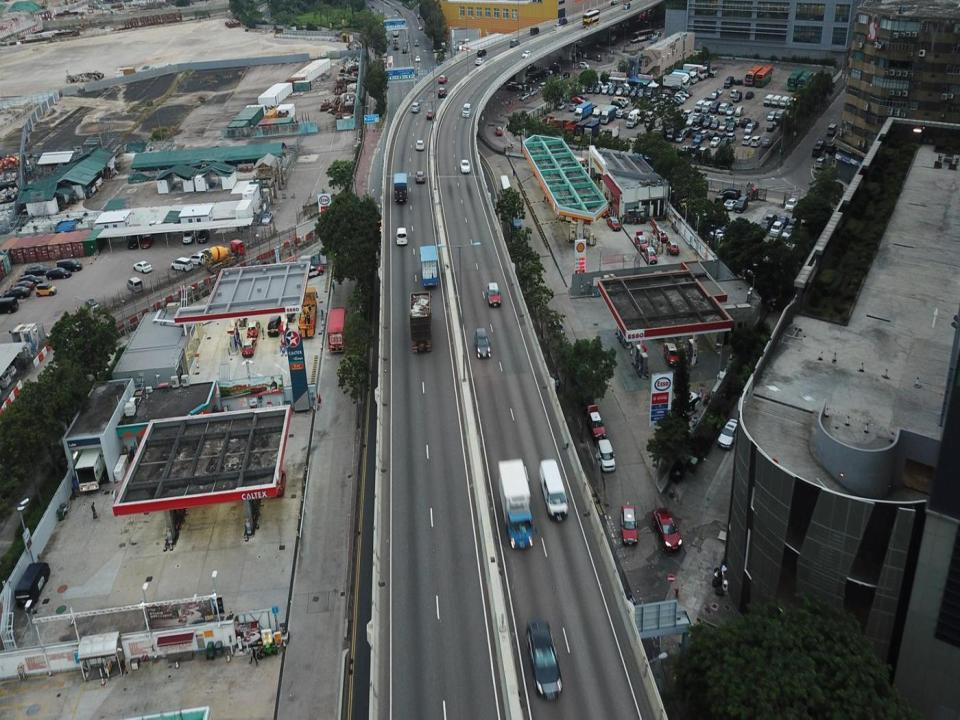bus: (787, 66, 805, 91), (796, 70, 812, 95), (579, 11, 601, 29), (756, 66, 774, 86), (745, 63, 760, 86)
car: (522, 618, 566, 699), (652, 506, 684, 555), (408, 292, 433, 354), (586, 404, 608, 439), (717, 414, 738, 449), (620, 504, 638, 544), (596, 439, 618, 470), (473, 326, 491, 360), (662, 340, 681, 366), (298, 262, 324, 280), (485, 281, 502, 307), (267, 313, 282, 341), (186, 252, 212, 268), (58, 259, 84, 274), (633, 230, 650, 250), (46, 267, 72, 280), (171, 257, 193, 272), (241, 336, 256, 358), (2, 295, 20, 313), (644, 243, 658, 265), (35, 283, 56, 297), (25, 264, 49, 276), (810, 137, 826, 155), (134, 260, 154, 274), (606, 215, 622, 231), (396, 226, 407, 248), (9, 286, 29, 298), (667, 238, 680, 256), (82, 298, 100, 311), (248, 319, 260, 338), (14, 280, 37, 289), (260, 211, 274, 225), (673, 130, 687, 143), (460, 159, 471, 175), (415, 170, 426, 185), (20, 274, 40, 282), (720, 136, 730, 151), (520, 48, 532, 60), (740, 134, 752, 146), (437, 86, 448, 99), (765, 120, 775, 134), (425, 110, 436, 122), (731, 92, 743, 103), (410, 101, 420, 114), (816, 155, 826, 168), (826, 139, 834, 155), (509, 36, 520, 47), (415, 139, 425, 151), (476, 48, 488, 58), (555, 18, 570, 26), (709, 136, 719, 148), (692, 134, 702, 146), (438, 74, 449, 84), (762, 138, 773, 148), (528, 26, 541, 34), (828, 124, 836, 136), (475, 56, 484, 66), (752, 135, 760, 146), (745, 88, 752, 100), (767, 110, 775, 120), (496, 124, 503, 135), (745, 124, 753, 132), (712, 102, 719, 110), (721, 102, 726, 110)
truck: (495, 459, 536, 549), (70, 430, 114, 491), (204, 237, 248, 272), (293, 288, 319, 337), (328, 304, 348, 356), (563, 120, 588, 148), (573, 121, 595, 144), (684, 61, 709, 80), (650, 218, 668, 243), (679, 63, 705, 80), (692, 60, 716, 78), (590, 103, 610, 124), (674, 68, 698, 85), (667, 71, 692, 87), (662, 75, 688, 90), (581, 120, 600, 140), (574, 100, 592, 121), (602, 124, 620, 144), (625, 109, 644, 127), (600, 104, 616, 124)
van: (539, 458, 569, 521), (14, 560, 51, 606), (420, 245, 439, 289), (677, 388, 701, 419), (393, 172, 408, 204), (499, 174, 514, 202), (126, 276, 145, 293), (763, 93, 776, 109), (772, 94, 784, 111), (779, 95, 791, 109), (776, 108, 786, 124), (724, 75, 735, 89), (462, 102, 471, 119), (696, 100, 704, 110)
